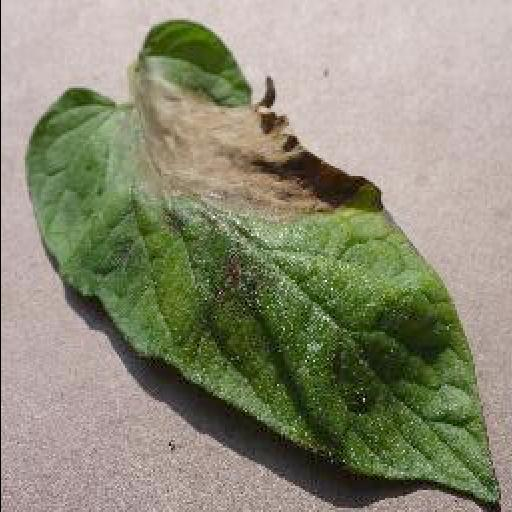disease_tomato: (27, 20, 501, 506)
